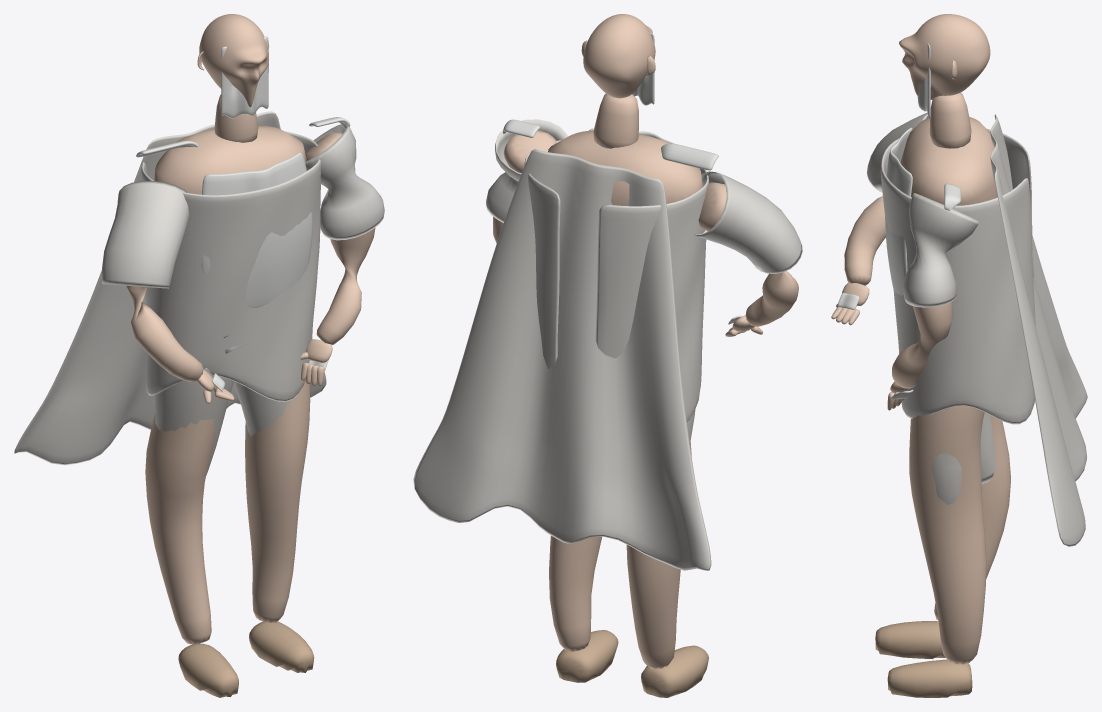
File: foundry_soldier.glb
3 renders of one model, left to right at view 1: azimuth 30°, elevation 25°; view 2: azimuth 150°, elevation 25°; view 3: azimuth 270°, elevation 25°, orthographic. The views are drawn at different scales.
Parts seen in each view (by area): view 1: Robe, Cape, LegR, LegL, SleeveR, Plate, Body, SleeveL, Head, ArmL, BreechR, ArmR (+5 smaller); view 2: Cape, Robe, SleeveR, LegR, Body, LegL, Head, ArmR, BootR, BootL, Neck, SleeveL (+2 smaller); view 3: Robe, LegL, Cape, Body, Head, SleeveL, BootL, LegR, ArmL, ArmR, BootR, Plate (+5 smaller).
Part boxes in pixels (x1,y1,x2,y2): Robe: (141, 131, 320, 401); Cape: (14, 111, 326, 465); LegR: (145, 412, 215, 644); LegL: (245, 380, 310, 622); SleeveR: (101, 181, 189, 288); Plate: (201, 152, 312, 307); Body: (154, 126, 306, 194); SleeveL: (305, 124, 384, 240); Head: (199, 14, 268, 106); ArmL: (305, 132, 375, 344); BreechR: (154, 368, 234, 475); ArmR: (126, 285, 203, 381); Cape: (413, 149, 711, 570); Robe: (524, 140, 708, 422); SleeveR: (694, 171, 802, 273); LegR: (626, 442, 691, 669); Body: (548, 130, 702, 205); LegL: (549, 535, 601, 651); Head: (583, 14, 655, 98); ArmR: (698, 182, 798, 326); BootR: (641, 645, 708, 697); BootL: (556, 630, 618, 682); Neck: (593, 93, 638, 148); SleeveL: (486, 119, 567, 222); Robe: (880, 129, 1035, 424); LegL: (909, 405, 986, 664); Cape: (990, 114, 1087, 546); Body: (900, 117, 997, 205); Head: (899, 14, 990, 99); SleeveL: (903, 193, 978, 307); BootL: (887, 659, 972, 697); LegR: (934, 415, 1010, 620); ArmL: (892, 202, 959, 388); ArmR: (844, 196, 885, 285); BootR: (875, 621, 945, 658); Plate: (885, 127, 912, 295).
Bounding box in the file's own units: 0.8758 × 1.79 × 0.6379.
